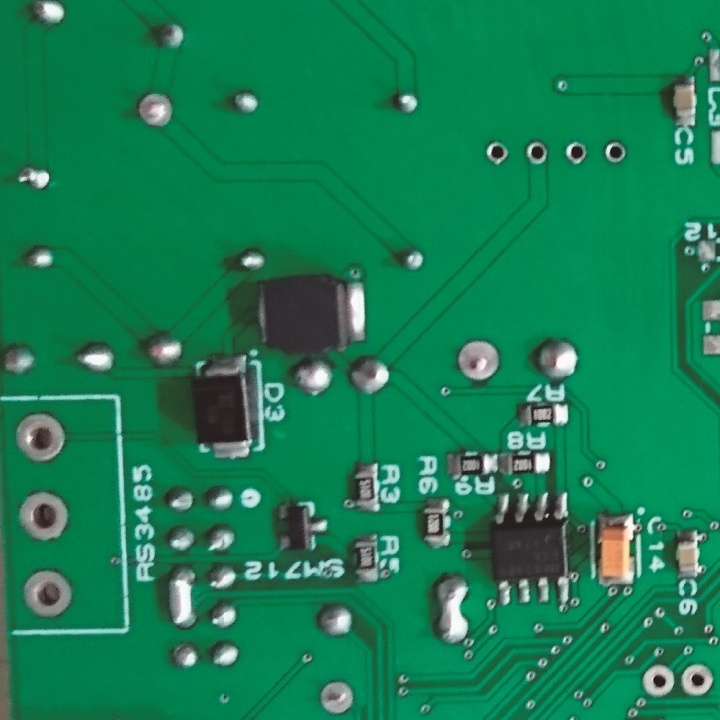F: (16, 486, 71, 547), (12, 412, 71, 464), (21, 566, 76, 618), (453, 335, 502, 383), (136, 92, 176, 129), (316, 678, 357, 714), (678, 662, 715, 698), (642, 665, 676, 697), (602, 138, 632, 168), (523, 138, 551, 167), (484, 139, 510, 166), (562, 140, 588, 167)
P: (433, 570, 473, 649), (161, 560, 200, 629)
